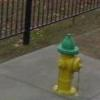Hydrant: (47, 19, 87, 97)
